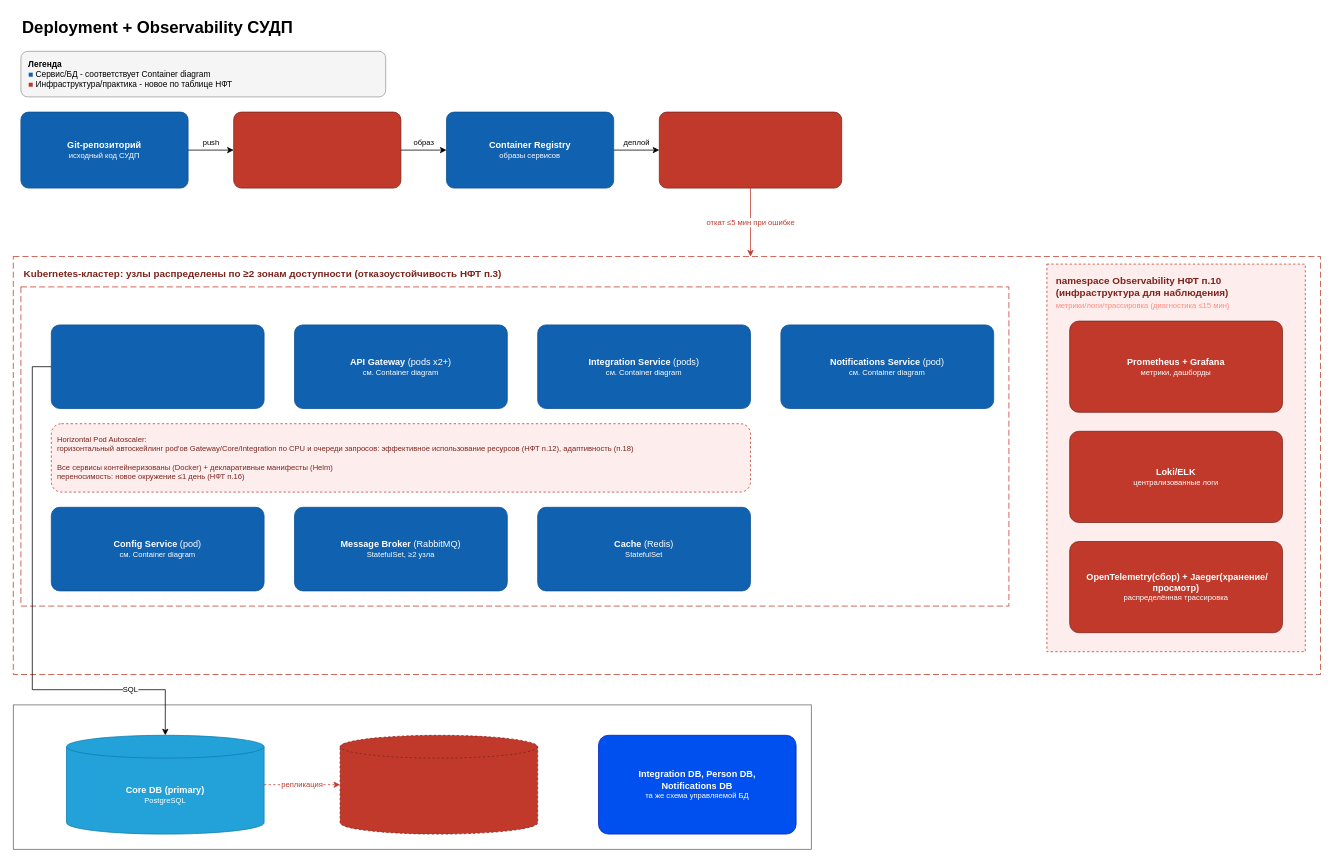
The diagram is 1334 pixels wide and 863 high, and some of its shapes have lost their labels. Each missing label, with the box of its shape:
CD: blue-green / canary деплой без даунтайма НФТ п.11: (659, 111, 842, 188)
CI: build + test сборка, юнит/интеграционные тесты: (233, 111, 401, 188)
Core Backend Service (pods) см. Container diagram: (51, 324, 264, 408)
Core DB (read-реплика) T6 НФТ п.21: (339, 735, 538, 834)
namespace sudp (бизнес-сервисы): (20, 286, 1009, 606)
Управляемая БД (вне кластера): (13, 704, 811, 849)
